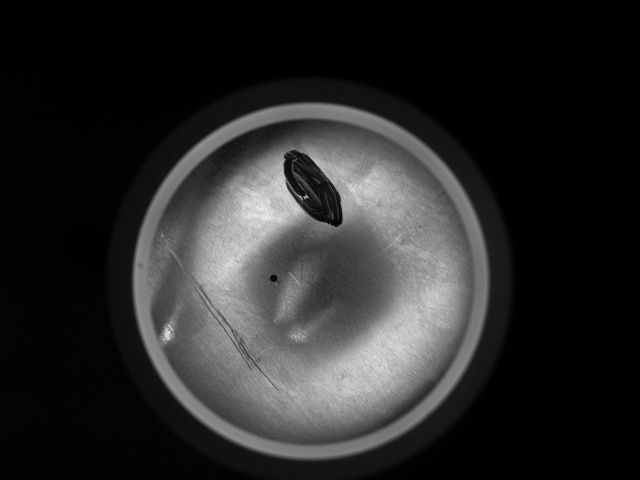ca_shang: (156, 223, 285, 394)
zang_wu: (282, 148, 347, 229)
zhen_kong: (263, 272, 282, 285)
